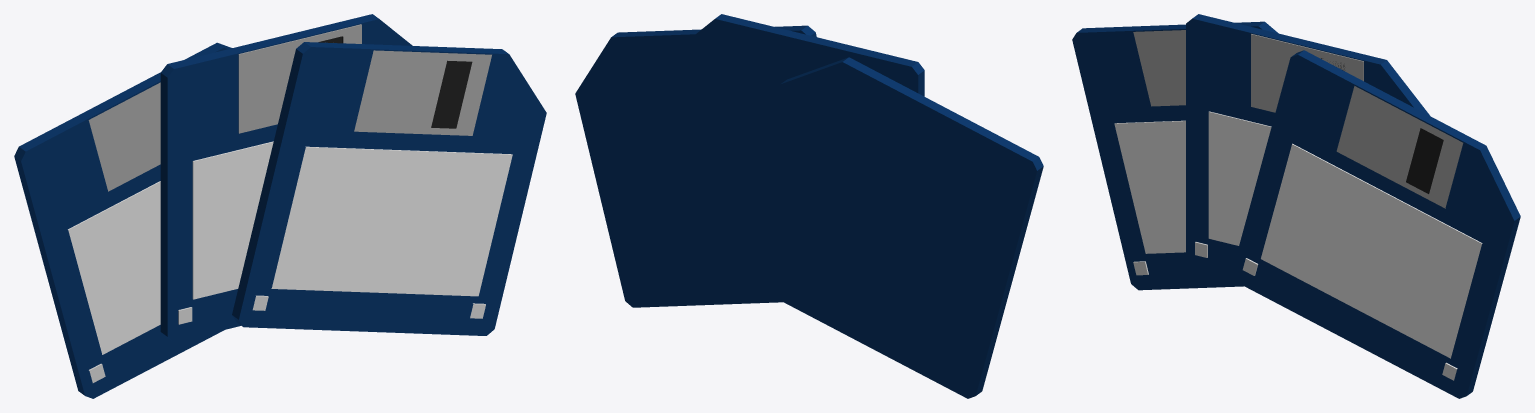
Rendered from maxAmmo.fbx.
3 renders of one model, left to right at view 1: azimuth 30°, elevation 25°; view 2: azimuth 150°, elevation 25°; view 3: azimuth 330°, elevation 25°, orthographic. The views are drawn at different scales.
Parts seen in each view (by area): view 1: Cube; view 2: Cube; view 3: Cube.
Boxes of the visible parts, left/top/right/bottom form: Cube: left=14, top=14, right=546, bottom=398; Cube: left=575, top=14, right=1043, bottom=398; Cube: left=1072, top=14, right=1520, bottom=398.
Size of the model in its own units: 380 by 240 by 39.53.
